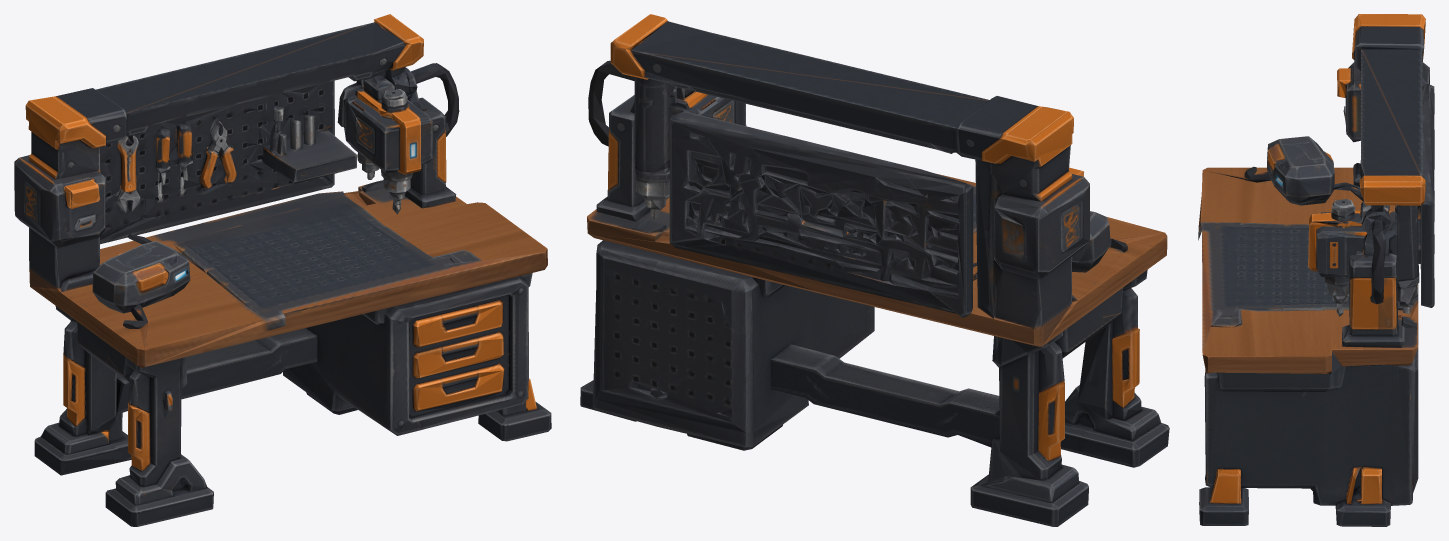
Rendered from workbench_composite.glb.
3 renders of one model, left to right at view 1: azimuth 30°, elevation 25°; view 2: azimuth 150°, elevation 25°; view 3: azimuth 270°, elevation 25°, orthographic. The views are drawn at different scales.
Visible parts, largest first — view 1: Mesh_0; view 2: Mesh_0; view 3: Mesh_0.
Boxes of the visible parts, box(x1,y1,x2,y2) form: Mesh_0: box(14, 14, 551, 526); Mesh_0: box(580, 14, 1169, 526); Mesh_0: box(1198, 14, 1434, 526).
Size of what is drawn, in the model's own units: 1.59 by 1.23 by 0.81.
1 material, 1 textured.
